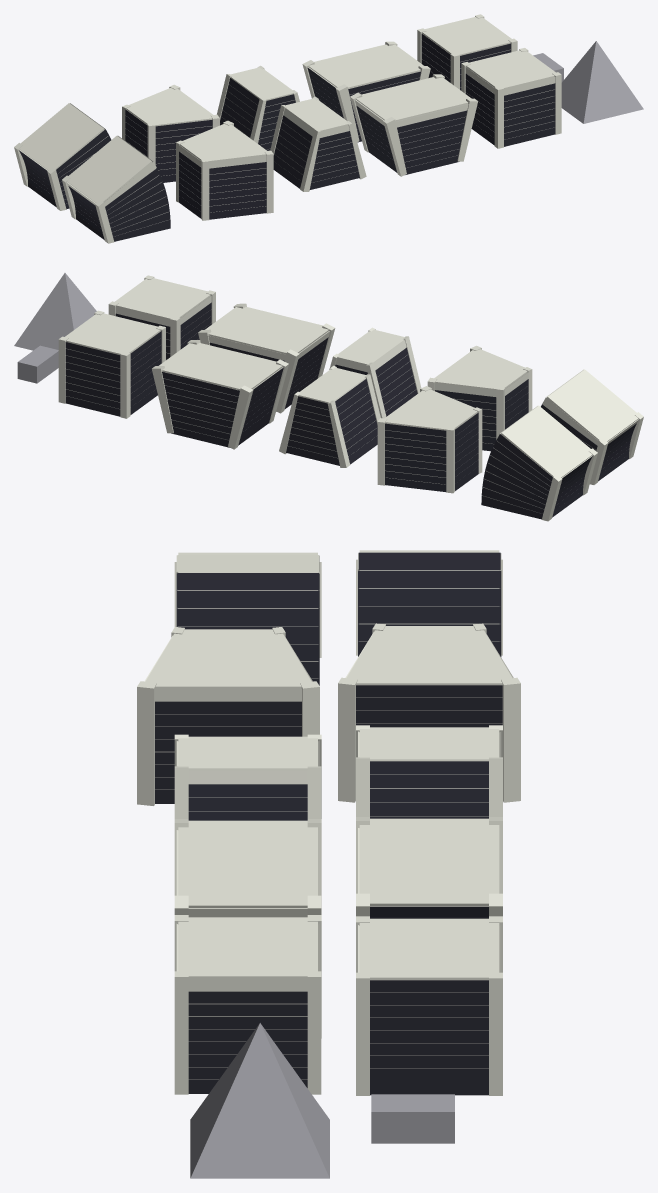
Rendered from BasicBuildings 1.FBX.
3 renders of one model, top to bottom at view 1: azimuth 30°, elevation 25°; view 2: azimuth 150°, elevation 25°; view 3: azimuth 270°, elevation 25°, orthographic. The views are drawn at different scales.
Visible parts, largest first — view 1: BasicBuildingA1, BasicBuildingA4, BasicBuildingA3, BasicBuildingA, BasicBuildingA2, BasicBuildingB4, BasicBuildingB1, BasicBuildingB3, BasicBuildingB, BasicBuildingB2, BuildingTop; view 2: BasicBuildingB1, BasicBuildingB3, BasicBuildingB4, BasicBuildingB, BasicBuildingB2, BasicBuildingA1, BasicBuildingA4, BasicBuildingA3, BasicBuildingA, BasicBuildingA2, BuildingTop, BuildingBox; view 3: BasicBuildingB, BasicBuildingA, BasicBuildingA3, BasicBuildingB3, BuildingTop, BasicBuildingB1, BasicBuildingA1, BasicBuildingB2, BasicBuildingA4, BasicBuildingA2, BasicBuildingB4, BuildingBox.
Part boxes in pixels (x1,y1,x2,y2): BasicBuildingA1: (350,74,477,176); BasicBuildingA4: (62,135,170,243); BasicBuildingA3: (176,120,273,220); BasicBuildingA: (461,48,561,148); BasicBuildingA2: (270,96,366,191); BasicBuildingB4: (14,103,111,210); BasicBuildingB1: (302,41,430,142); BasicBuildingB3: (122,84,219,182); BasicBuildingB: (417,14,517,90); BasicBuildingB2: (217,65,299,150); BuildingTop: (561,41,643,123); BasicBuildingB1: (152,340,288,449); BasicBuildingB3: (377,386,482,493); BasicBuildingB4: (481,405,597,521); BasicBuildingB: (58,310,165,418); BasicBuildingB2: (279,365,380,467); BasicBuildingA1: (198,303,335,413); BasicBuildingA4: (541,369,643,484); BasicBuildingA3: (427,345,532,451); BasicBuildingA: (108,275,215,359); BasicBuildingA2: (329,327,421,418); BuildingTop: (14,273,96,350); BuildingBox: (17,345,58,383); BasicBuildingB: (356,916,502,1095); BasicBuildingA: (174,915,321,1094); BasicBuildingA3: (137,627,319,805); BasicBuildingB3: (338,623,520,802); BuildingTop: (190,1023,329,1178); BasicBuildingB1: (356,817,502,918); BasicBuildingA1: (174,819,321,917); BasicBuildingB2: (356,725,502,818); BasicBuildingA4: (174,552,321,685); BasicBuildingA2: (174,734,321,820); BasicBuildingB4: (356,550,502,656); BuildingBox: (371,1094,454,1143).
Bounding box in the file's own units: 913 × 120 × 275.
